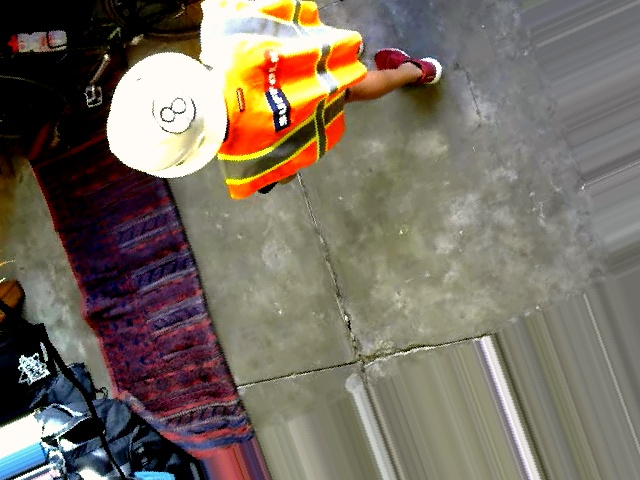eight: (144, 77, 202, 141)
